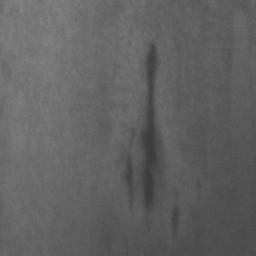Inclusion: (142, 45, 157, 206)
